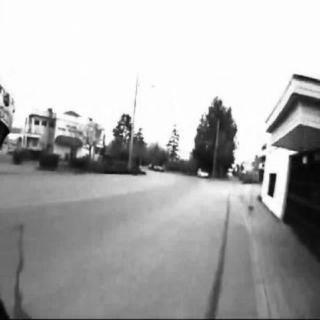other: (230, 98, 274, 172)
